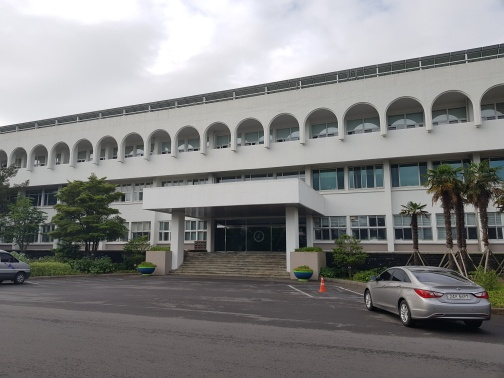Main Building of University: (8, 52, 503, 258), (131, 175, 333, 287), (265, 90, 476, 144), (30, 120, 233, 171)
